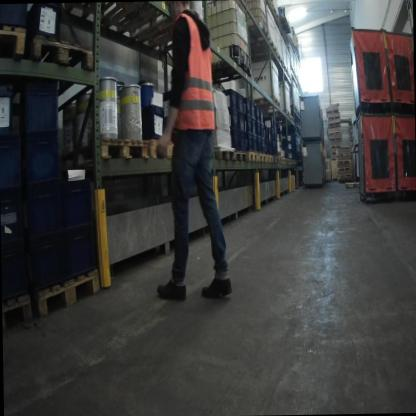pallet: (3, 24, 102, 113), (114, 3, 190, 61), (36, 268, 103, 325), (53, 131, 146, 172), (146, 126, 187, 169), (4, 292, 41, 333), (0, 17, 31, 62), (249, 93, 281, 116), (207, 141, 235, 165), (250, 38, 278, 61), (262, 4, 279, 24), (344, 178, 361, 192), (276, 109, 292, 123), (280, 115, 296, 129), (235, 147, 248, 162), (247, 149, 258, 164), (275, 48, 283, 66), (336, 172, 353, 180), (281, 59, 288, 76), (335, 158, 352, 165), (293, 109, 302, 122), (265, 152, 273, 166), (326, 130, 342, 137), (257, 152, 266, 164), (271, 153, 279, 166), (327, 115, 340, 122), (336, 167, 351, 173), (335, 151, 350, 157), (326, 122, 341, 128), (328, 137, 342, 143), (277, 154, 284, 165), (291, 102, 298, 113), (329, 143, 341, 149), (325, 108, 337, 113), (329, 150, 337, 155)
small_load_carrier: (22, 123, 66, 191), (61, 175, 97, 240), (30, 233, 68, 293), (28, 184, 66, 243), (66, 224, 101, 285), (1, 236, 34, 299), (25, 81, 63, 133), (1, 186, 31, 244), (2, 123, 26, 190), (0, 79, 23, 130), (139, 104, 165, 139), (219, 87, 237, 113), (224, 108, 239, 131), (226, 127, 240, 150), (237, 129, 248, 154), (237, 108, 246, 135), (260, 115, 274, 132), (235, 90, 245, 113), (248, 98, 255, 121), (244, 95, 251, 116), (251, 132, 258, 150), (251, 117, 257, 137), (245, 113, 251, 132), (258, 107, 264, 124), (247, 131, 252, 151), (260, 123, 266, 139), (255, 121, 261, 136), (261, 137, 266, 154), (256, 104, 260, 122), (271, 130, 276, 143), (267, 126, 271, 142), (273, 117, 277, 133), (257, 137, 261, 152), (264, 124, 268, 138), (268, 140, 272, 153), (273, 130, 277, 143), (272, 143, 276, 155), (265, 137, 268, 152), (275, 143, 277, 152)
